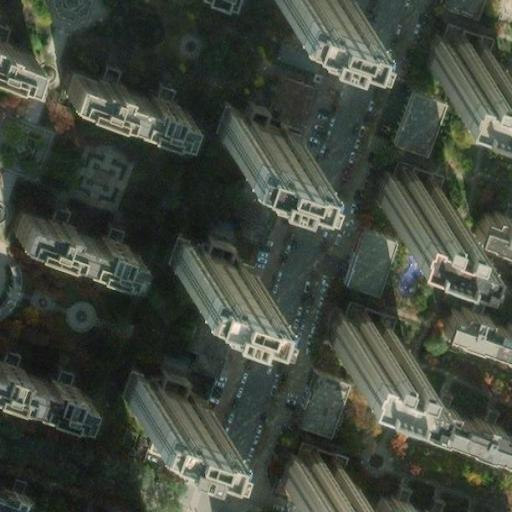building: (391, 387, 512, 462), (6, 203, 131, 272), (59, 60, 184, 128), (119, 366, 213, 419), (158, 233, 252, 286), (211, 98, 305, 151), (317, 319, 406, 373), (272, 454, 361, 508), (412, 33, 501, 86), (364, 180, 453, 233), (437, 302, 512, 355), (286, 360, 341, 425), (339, 220, 386, 283), (387, 84, 432, 145), (469, 205, 512, 247), (373, 491, 436, 512), (0, 43, 31, 82), (0, 485, 29, 512), (288, 0, 353, 12)
